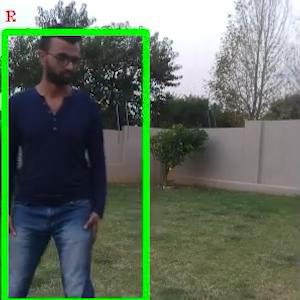follow: (9, 16, 114, 299)
